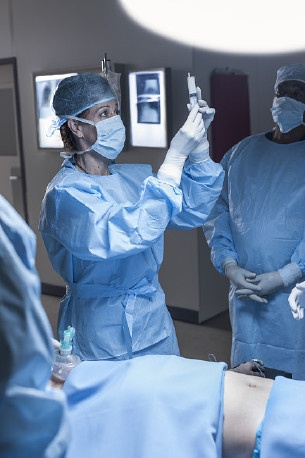Mask: (81, 102, 138, 158)
